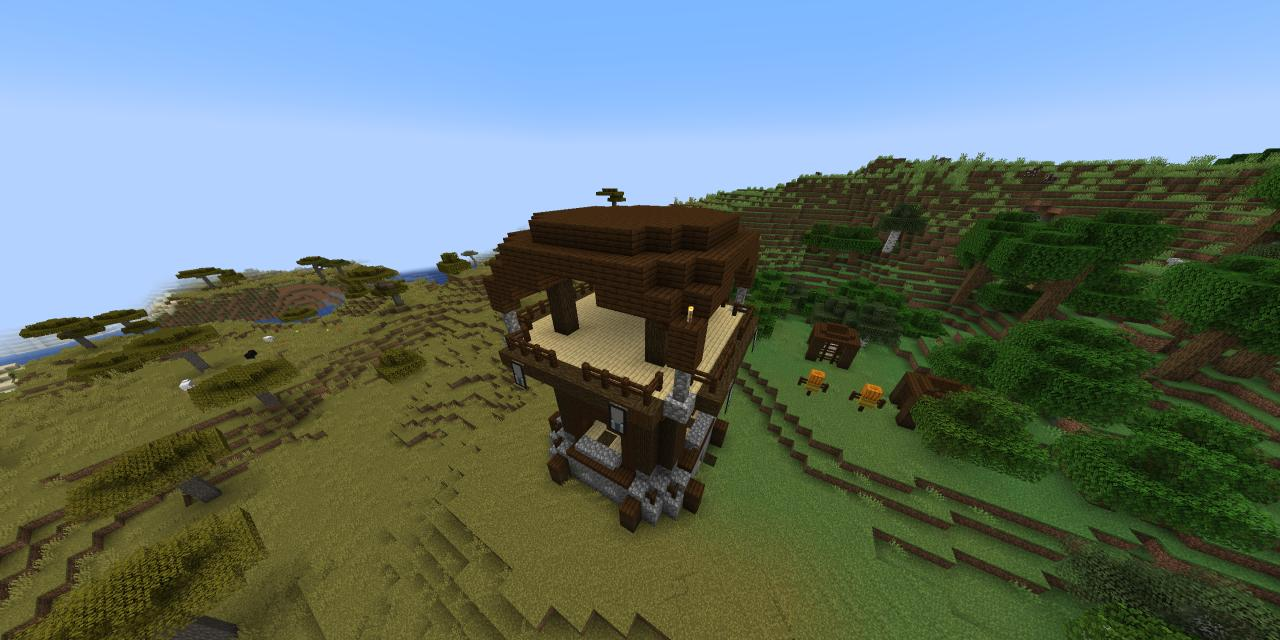pillager outpost: (480, 193, 770, 535)
